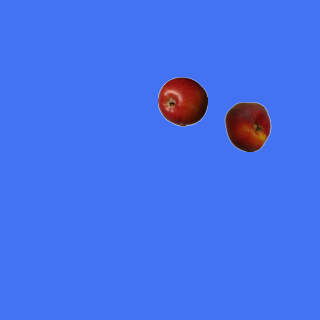Apple Braeburn: (157, 76, 207, 126)
Nectarine Flat: (222, 101, 272, 151)
